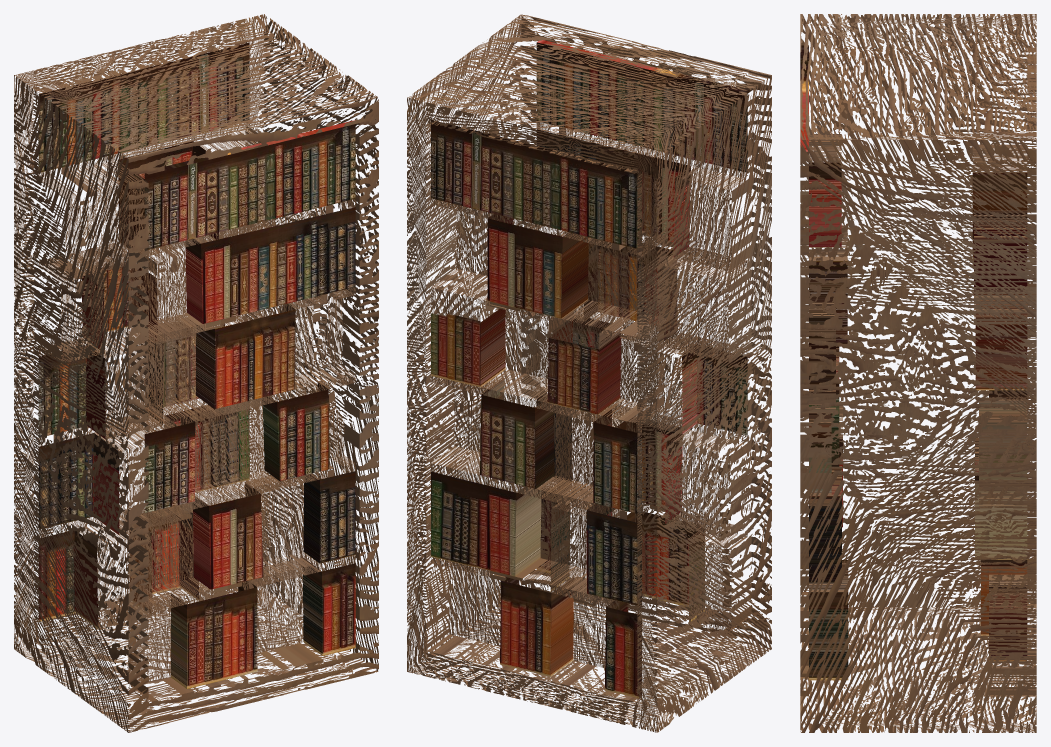
File: colonna 1.fbx
The picture shows the model from 3 angles, left to right: view 1: azimuth 30°, elevation 25°; view 2: azimuth 150°, elevation 25°; view 3: azimuth 270°, elevation 25°; orthographic projection. The views are drawn at different scales.
Parts seen in each view (by area): view 1: Cube; view 2: Cube; view 3: Cube.
Boxes of the visible parts, x1,y1,x2,y2 form: Cube: (14,14,378,732); Cube: (407,14,771,732); Cube: (800,14,1036,732).
Size of the model in its own units: 365 by 799 by 288.
